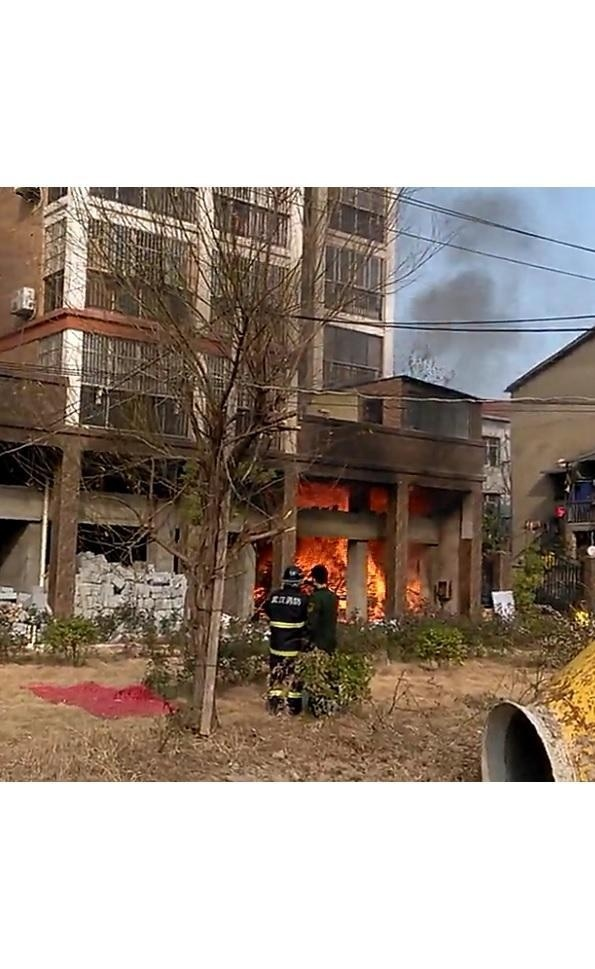fire: (292, 479, 400, 622)
